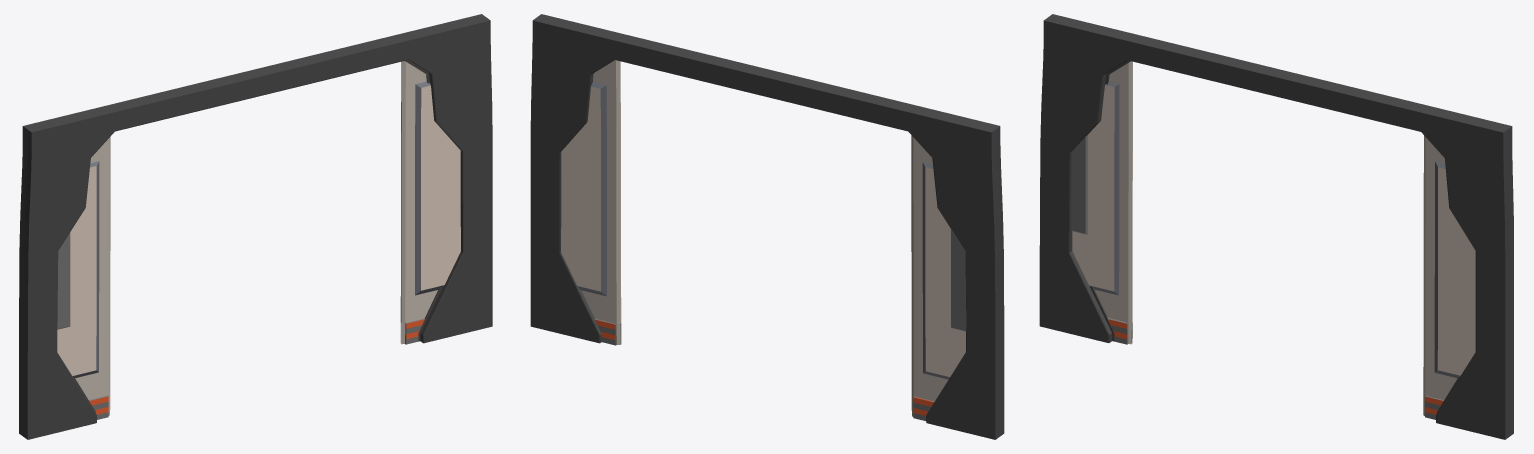
The model's file is Hallway_Module_Door_02.glb.
3 views of the same model, side by side, from view 1: azimuth 30°, elevation 25°; view 2: azimuth 150°, elevation 25°; view 3: azimuth 330°, elevation 25° (orthographic).
Visible parts, largest first — view 1: Hallway_Module_Door_02; view 2: Hallway_Module_Door_02; view 3: Hallway_Module_Door_02.
Boxes of the visible parts, x1,y1,x2,y2 form: Hallway_Module_Door_02: (19,14,492,439); Hallway_Module_Door_02: (530,14,1004,439); Hallway_Module_Door_02: (1039,14,1513,439).
Size of what is drawn, in the model's own units: 6.24 by 3.8 by 0.2.
Materials: 1 (1 with a texture image).
